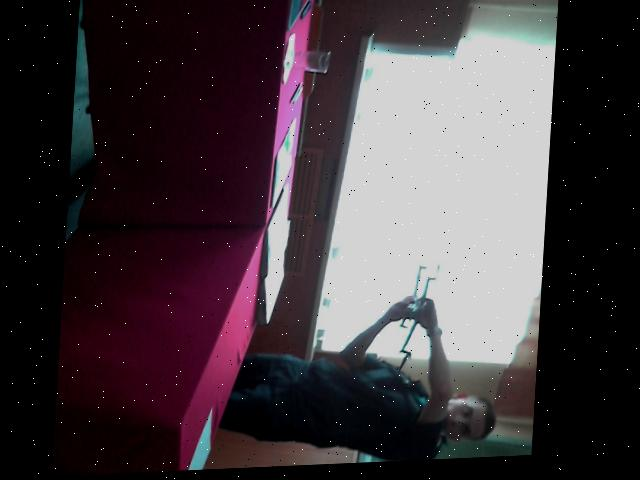drone: (390, 259, 456, 365)
